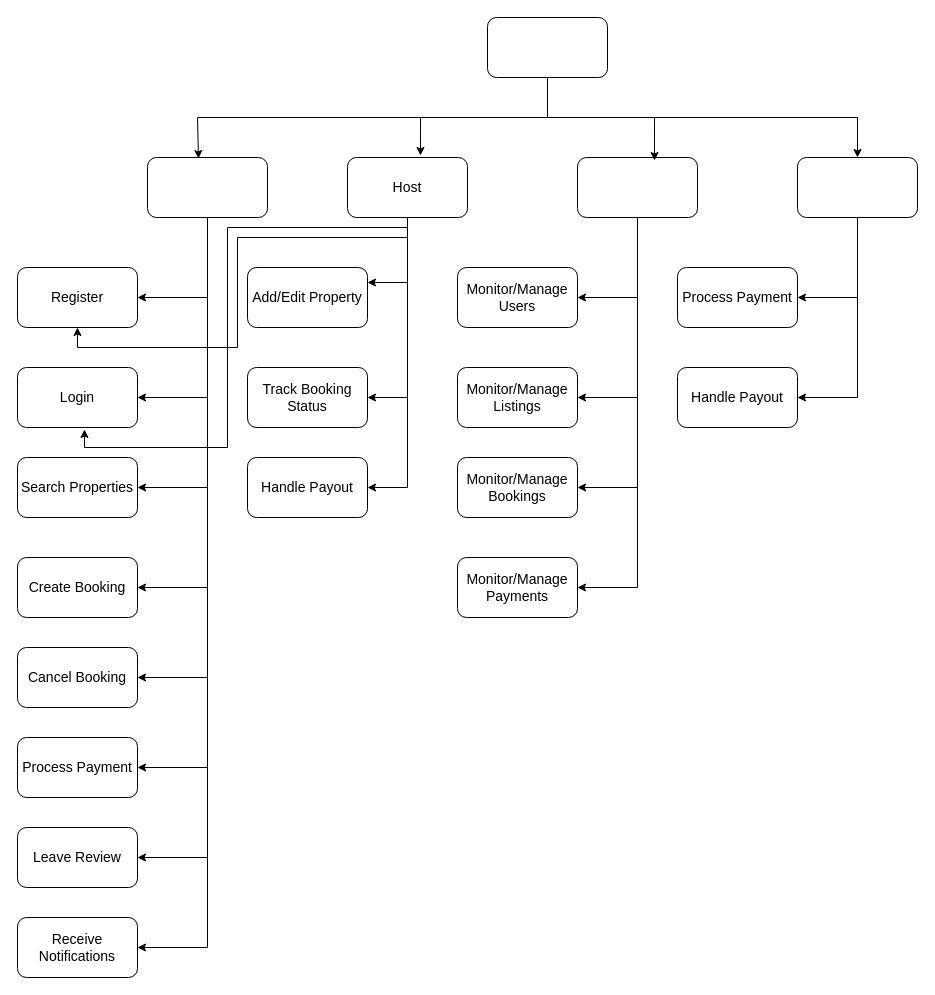
The diagram is 935 pixels wide and 995 high, and some of its shapes have lost their labels. Here are the shapes that lost their labels. From the top down, the box of each, then its label:
(486, 16, 608, 78): Actors
(146, 156, 268, 218): Guest
(576, 156, 698, 218): Admin
(796, 156, 918, 218): Payment Gateway
